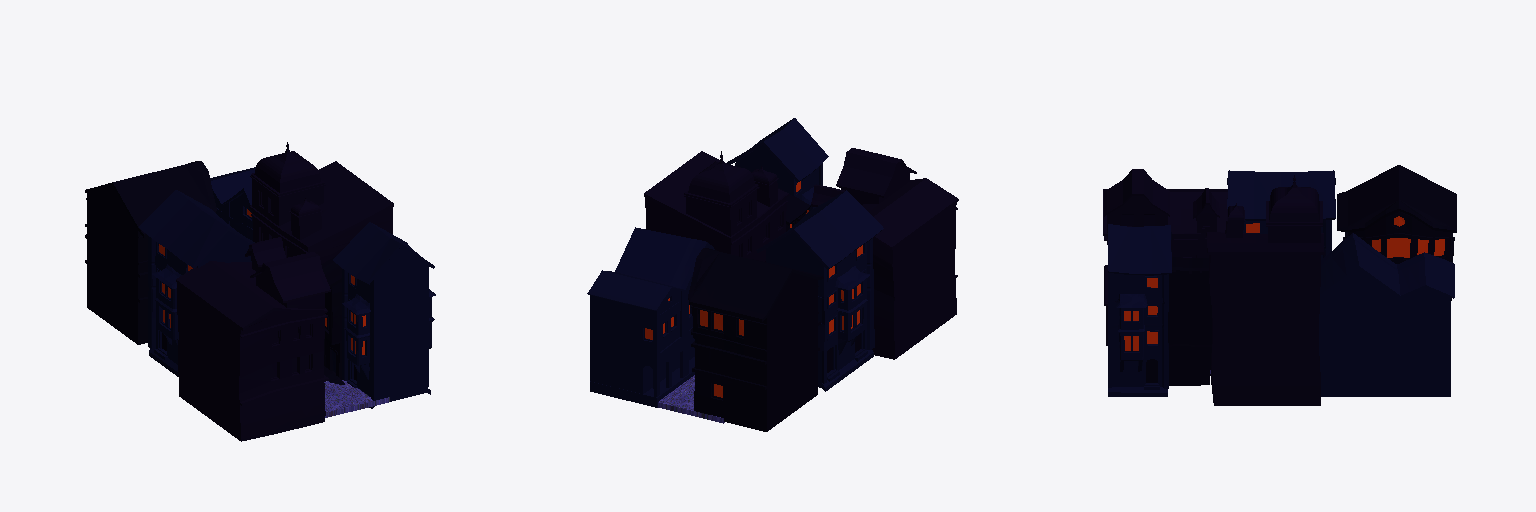
3 views of the same model, side by side, from view 1: azimuth 30°, elevation 25°; view 2: azimuth 150°, elevation 25°; view 3: azimuth 270°, elevation 25° (orthographic).
Visible parts, largest first — view 1: Cube.001, House02, Cube.003, Cube, House02.001, Cube.004, House01, Ground01; view 2: Cube.003, Cube.001, Cube.004, House02.001, Cube, House02, Ground01, House01; view 3: Cube, Cube.004, House02, Cube.003, Cube.001, House01, House02.001.
Part boxes in pixels (bbox=[...]): Cube.001: bbox=[176, 237, 330, 441]; House02: bbox=[333, 222, 435, 408]; Cube.003: bbox=[85, 161, 216, 344]; Cube: bbox=[249, 142, 393, 263]; House02.001: bbox=[139, 190, 254, 376]; Cube.004: bbox=[210, 167, 255, 240]; House01: bbox=[321, 256, 344, 384]; Ground01: bbox=[324, 380, 389, 417]; Cube.003: bbox=[688, 248, 823, 431]; Cube.001: bbox=[811, 148, 958, 359]; Cube.004: bbox=[587, 227, 714, 407]; House02.001: bbox=[756, 190, 883, 391]; Cube: bbox=[644, 151, 789, 261]; House02: bbox=[727, 118, 828, 214]; Ground01: bbox=[658, 375, 724, 423]; House01: bbox=[745, 168, 810, 231]; Cube: bbox=[1206, 175, 1324, 405]; Cube.004: bbox=[1319, 233, 1454, 396]; House02: bbox=[1108, 224, 1171, 396]; Cube.003: bbox=[1337, 165, 1456, 300]; Cube.001: bbox=[1103, 169, 1227, 345]; House01: bbox=[1168, 257, 1211, 385]; House02.001: bbox=[1227, 170, 1335, 259].
Size of the model in its own units: 41.15 by 38.7 by 61.9.
5 materials, 1 textured.